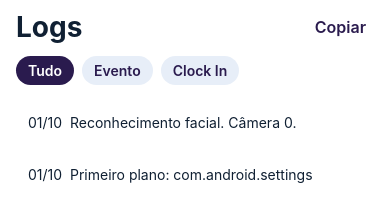
Test: Logs › Evento esconde o que não é a batida
Expected: the text "01/10 Primeiro plano: com.android.settings" is shown, top-left (16, 153), bottom-right (366, 197)
Click the element showing "Evento": (117, 70) top-left (82, 56), bottom-right (153, 85)
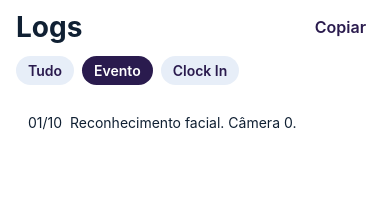
Expected: the text "01/10 Reconhecimento facial. Câmera 0." is shown, top-left (16, 101), bottom-right (366, 145)
Expected: the text "com.android.settings" is gone
